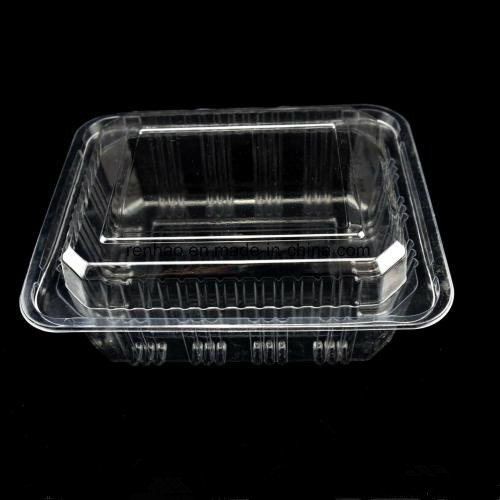PlasticBox: (15, 100, 456, 372)
